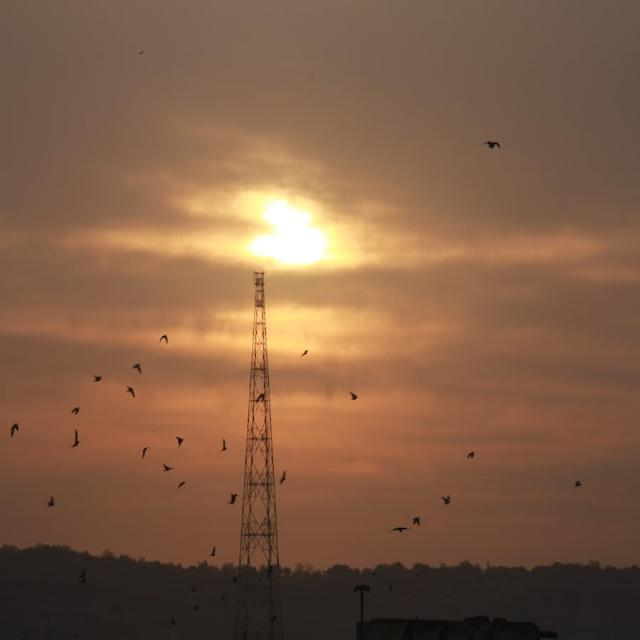transmission tower: (178, 204, 311, 536)
